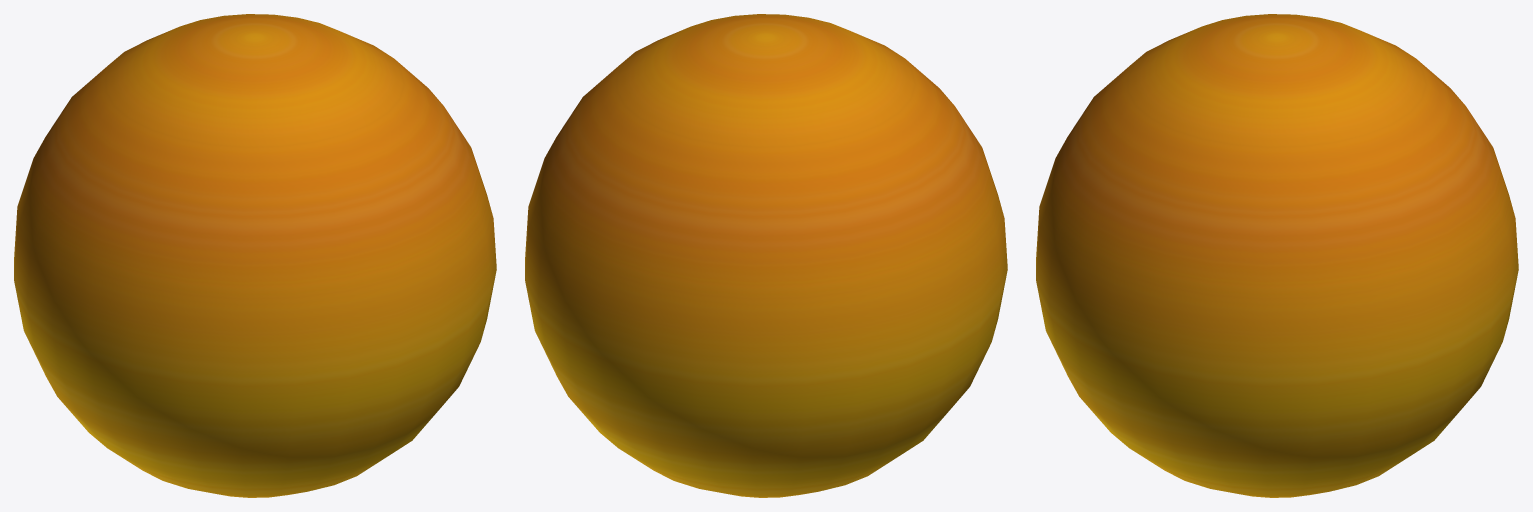
The model's file is sun2.FBX.
3 renders of one model, left to right at view 1: azimuth 30°, elevation 25°; view 2: azimuth 150°, elevation 25°; view 3: azimuth 270°, elevation 25°, orthographic.
Parts seen in each view (by area): view 1: Sphere001; view 2: Sphere001; view 3: Sphere001.
Boxes of the visible parts, x1,y1,x2,y2 form: Sphere001: (14, 14, 496, 497); Sphere001: (525, 14, 1007, 497); Sphere001: (1036, 14, 1518, 497).
Size of the model in its own units: 11.07 by 11.11 by 11.05.
1 material, 1 textured.
